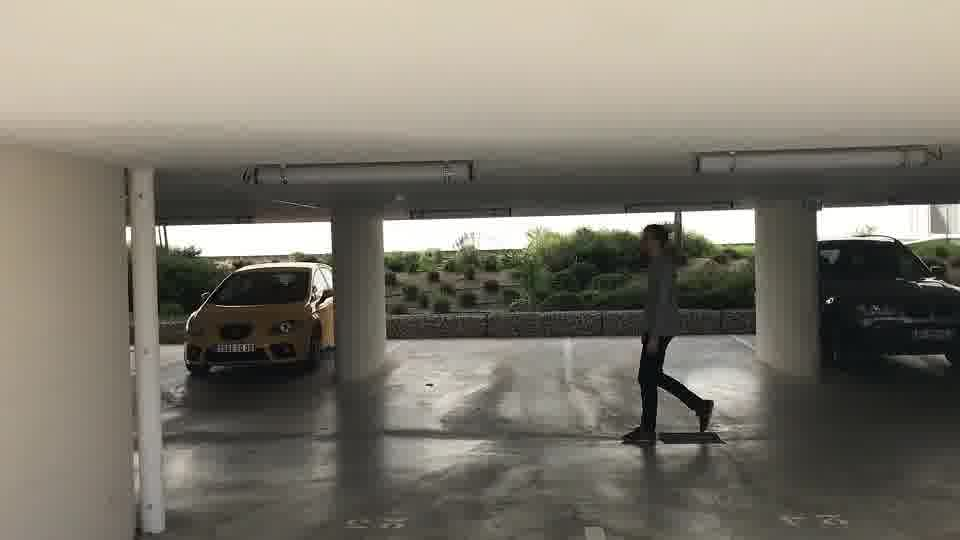jugador: (613, 219, 720, 451)
